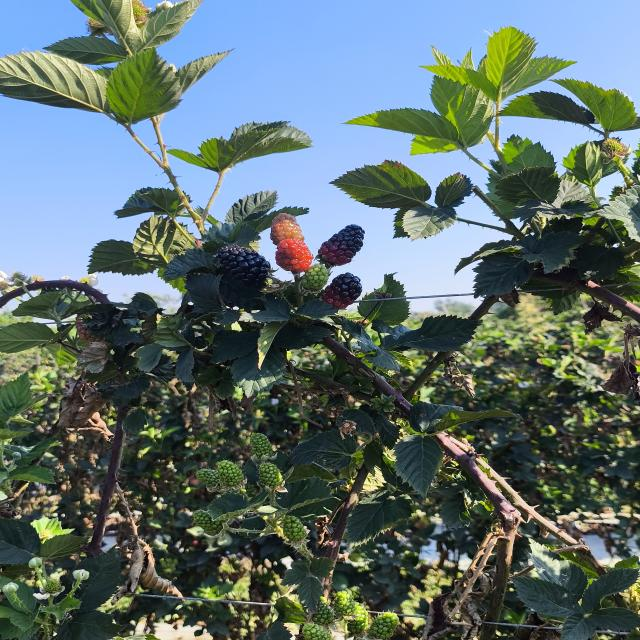maduro: (217, 245, 270, 288)
marron: (317, 225, 364, 266), (321, 273, 362, 309)
naranja: (275, 239, 313, 273), (270, 213, 304, 245)
verde: (369, 612, 399, 640), (193, 510, 223, 535), (301, 264, 328, 291), (217, 460, 244, 487), (347, 603, 368, 634), (282, 516, 306, 542), (259, 462, 282, 489), (333, 590, 356, 617), (250, 433, 272, 457), (302, 623, 332, 640), (312, 602, 335, 624), (196, 469, 219, 487)
